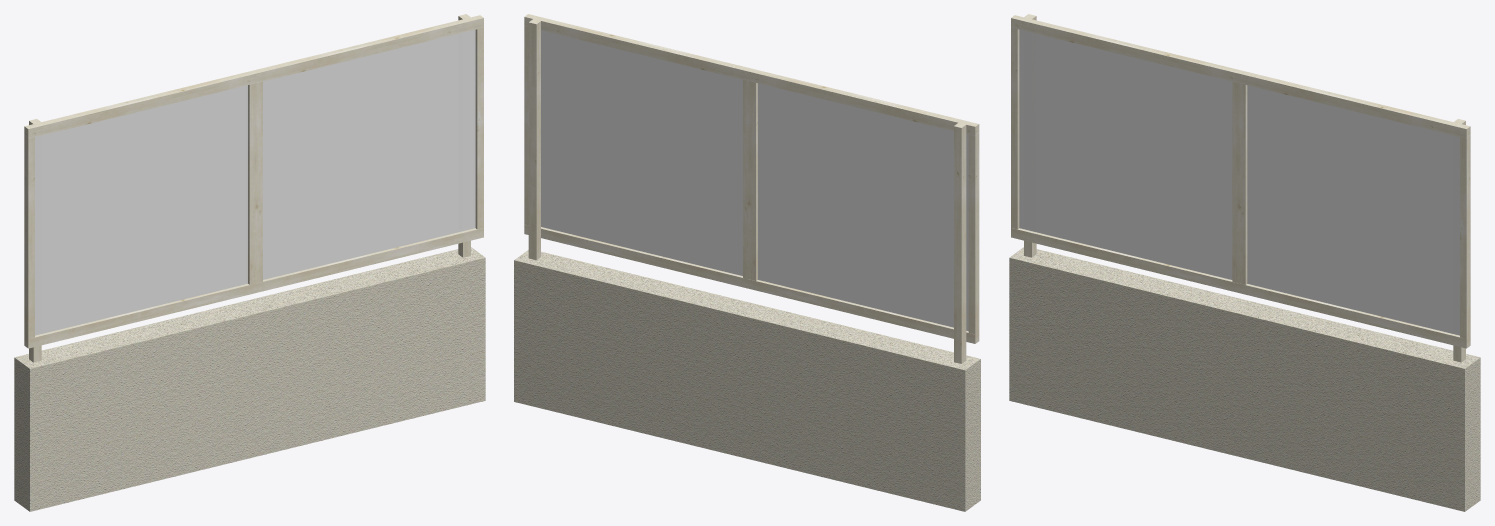
File: EAFpolycadesign_w1998-h920_block_whitepine.fbx
3 renders of one model, left to right at view 1: azimuth 30°, elevation 25°; view 2: azimuth 150°, elevation 25°; view 3: azimuth 330°, elevation 25°, orthographic.
Visible parts, largest first — view 1: EAFpolycadesign_w1998-h920_block_whitepine; view 2: EAFpolycadesign_w1998-h920_block_whitepine; view 3: EAFpolycadesign_w1998-h920_block_whitepine.
Boxes of the visible parts, x1,y1,x2,y2 form: EAFpolycadesign_w1998-h920_block_whitepine: (14,14,485,511); EAFpolycadesign_w1998-h920_block_whitepine: (514,14,980,511); EAFpolycadesign_w1998-h920_block_whitepine: (1009,14,1480,511).
Bounding box in the file's own units: 200 × 160 × 12.
4 materials, 3 textured.
